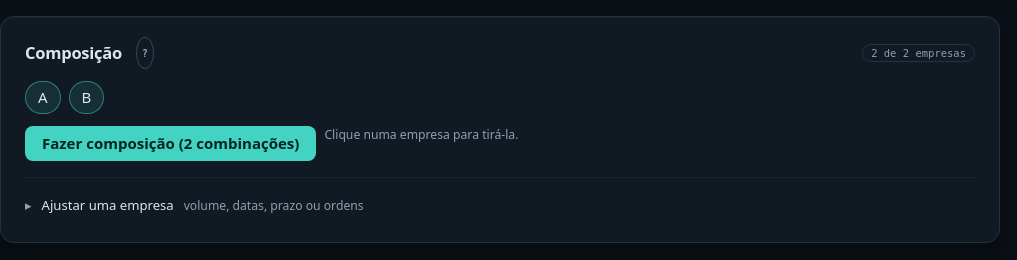
Test: LeverBuilder · composição › sem nenhuma empresa na composição, o botão fica desabilitado
The image size is (1017, 260).
Click the button "A" at (43, 97), box [25,81,61,114]
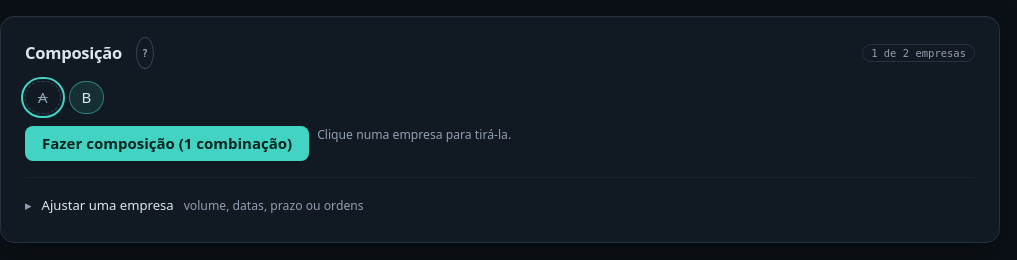
Click the button "B" at (86, 97), box [69,81,104,114]
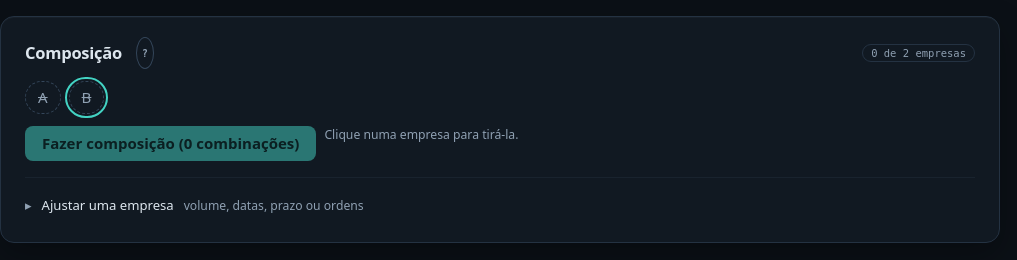
expect the button "Fazer composição (0 combinações)" is disabled: met, box [25,126,316,161]
